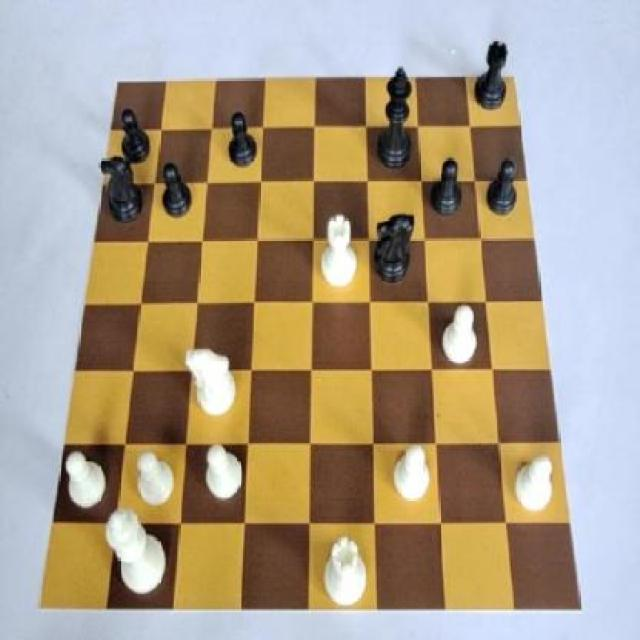black-bishop: (376, 65, 414, 177)
black-king: (92, 156, 144, 230), (374, 206, 418, 288)
black-knight: (154, 157, 196, 226), (222, 106, 259, 177), (486, 154, 524, 221), (429, 154, 465, 222), (117, 105, 153, 170)
black-queen: (471, 32, 510, 113)
white-bishop: (105, 502, 170, 598)
white-king: (186, 340, 238, 431)
white-knight: (197, 442, 249, 510), (512, 445, 556, 522), (386, 442, 437, 506), (59, 451, 110, 514), (132, 448, 178, 515), (439, 302, 486, 366)
white-queen: (317, 530, 377, 604), (315, 211, 358, 290)
